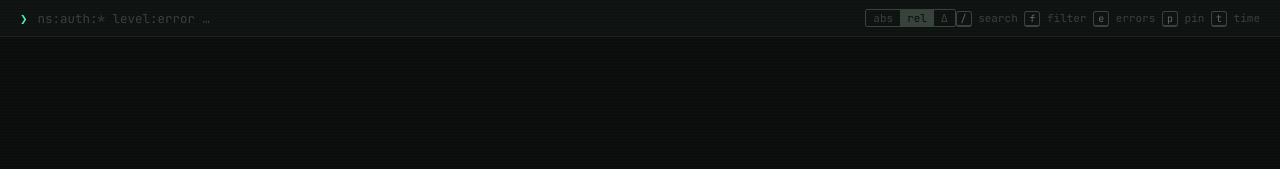
Test: CmdBar › autocomplete › Esc closes the dropdown and stops the keydown from reaching a document-level listener, without blurring
Focus the dropdown named "filter or search" at (446, 18), box [38,10,855,26]
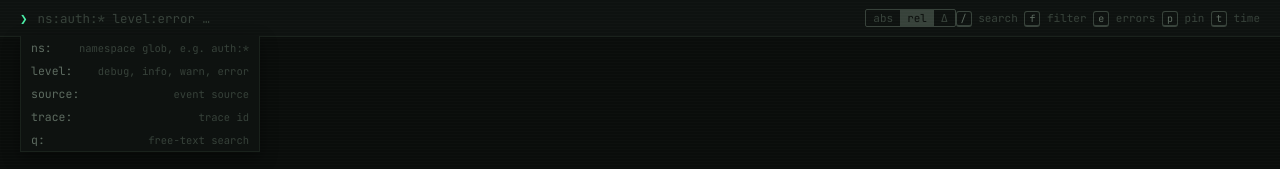
Check: the list is shown, box [20,36,260,152]
Press Escape in the dropdown named "filter or search", box [38,10,855,26]
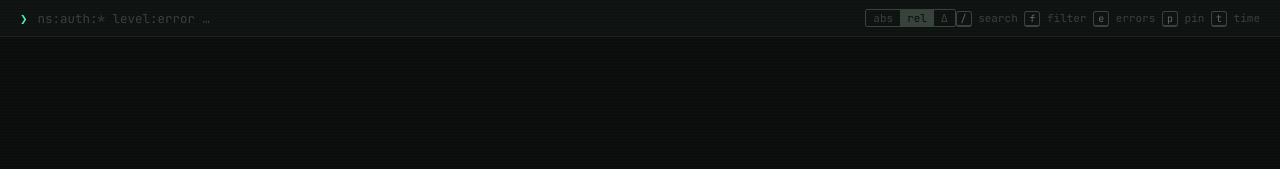
Check: the list is gone
